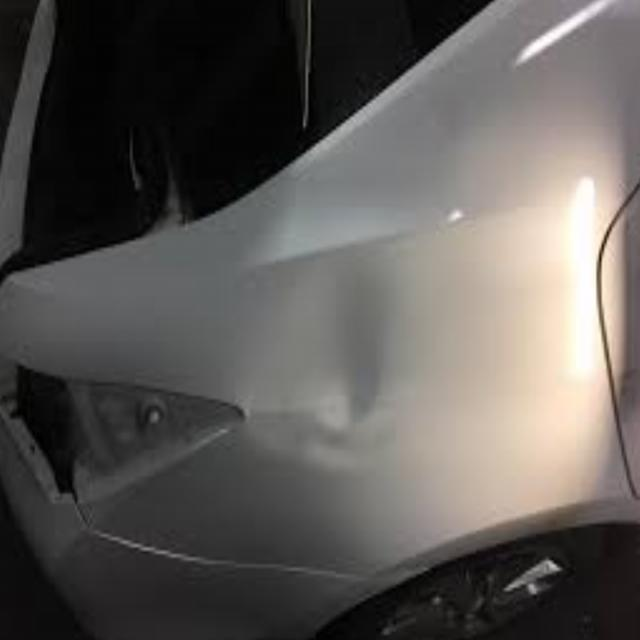dents: (247, 320, 418, 484)
